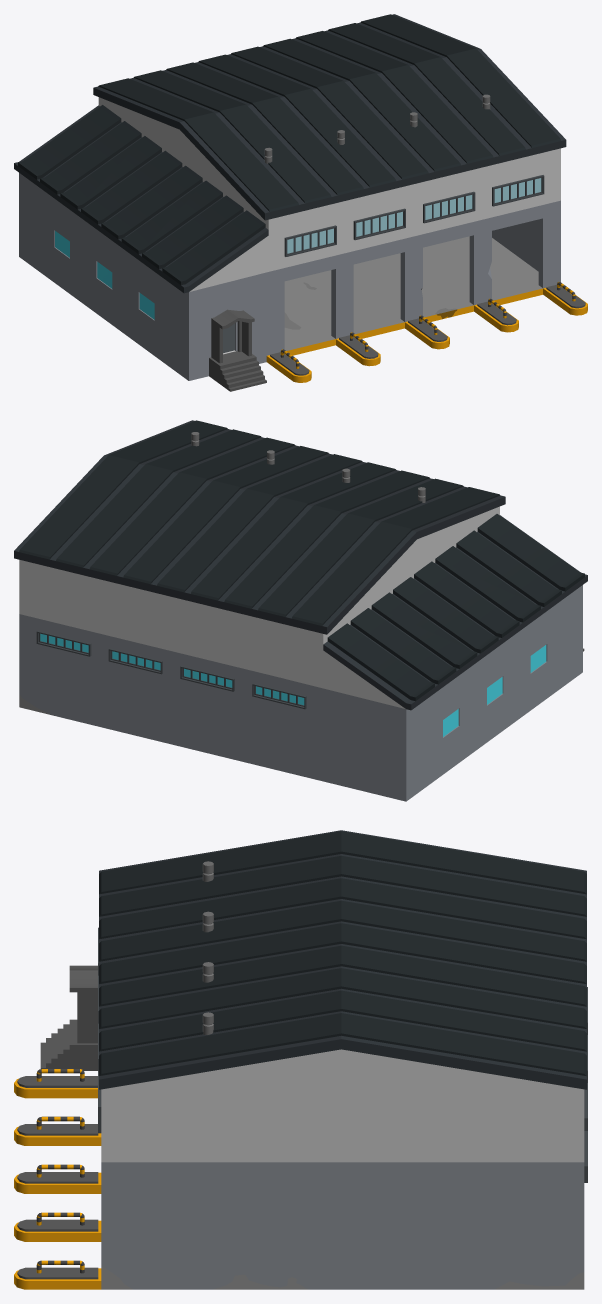
Rendered from SM_Buildings_Warehouse_02.fbx.
3 renders of one model, top to bottom at view 1: azimuth 30°, elevation 25°; view 2: azimuth 150°, elevation 25°; view 3: azimuth 270°, elevation 25°, orthographic. The views are drawn at different scales.
Visible parts, largest first — view 1: SM_Buildings_Warehouse_02; view 2: SM_Buildings_Warehouse_02; view 3: SM_Buildings_Warehouse_02.
Part boxes in pixels (bbox=[...]): SM_Buildings_Warehouse_02: bbox=[14, 14, 587, 391]; SM_Buildings_Warehouse_02: bbox=[14, 420, 587, 801]; SM_Buildings_Warehouse_02: bbox=[14, 830, 587, 1289].
Size of the model in its own units: 26.08 by 11.78 by 23.92.
